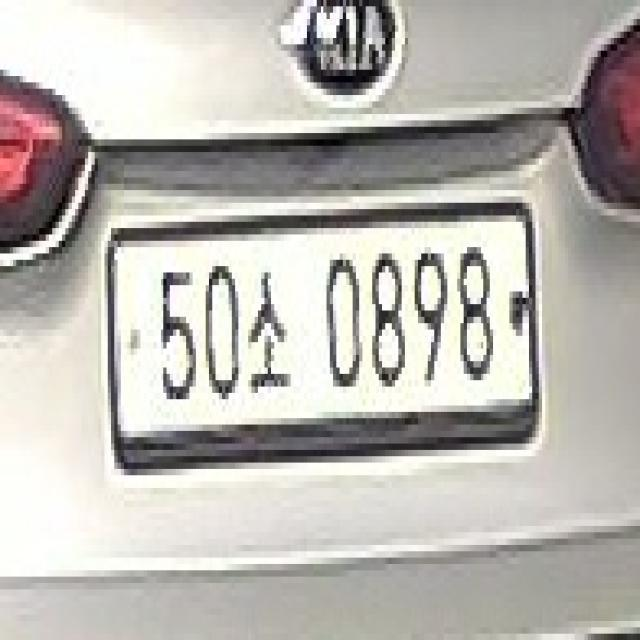plat: (105, 197, 543, 471)
